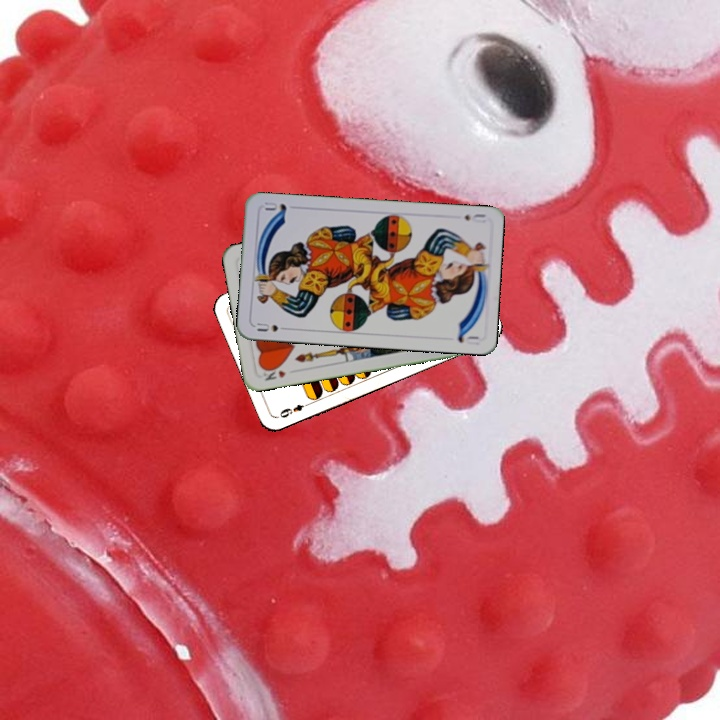E9: (275, 398, 313, 421)
HK: (257, 362, 289, 384)
SU: (253, 319, 292, 334), (460, 209, 488, 226)
